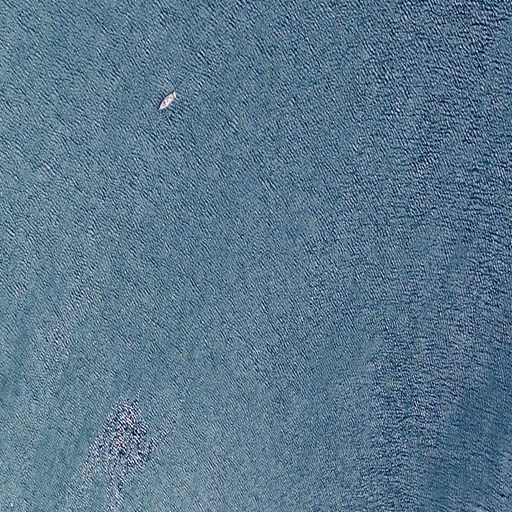ship: (157, 91, 177, 111)
